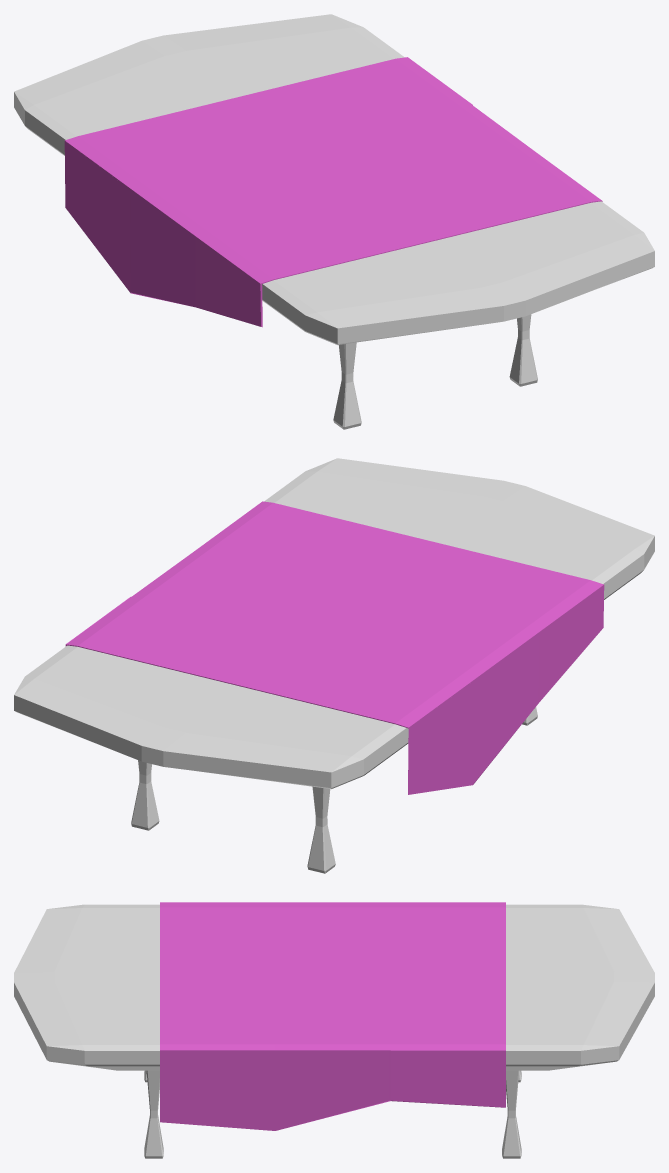
Rendered from salon_stolik.fbx.
The picture shows the model from 3 angles, top to bottom: view 1: azimuth 30°, elevation 25°; view 2: azimuth 150°, elevation 25°; view 3: azimuth 270°, elevation 25°; orthographic projection. The views are drawn at different scales.
Parts seen in each view (by area): view 1: stolik; view 2: stolik; view 3: stolik.
Boxes of the visible parts, x1,y1,x2,y2 form: stolik: (14, 14, 654, 429); stolik: (14, 458, 654, 873); stolik: (14, 902, 654, 1158).
Size of the model in its own units: 88.82 by 39.4 by 162.
